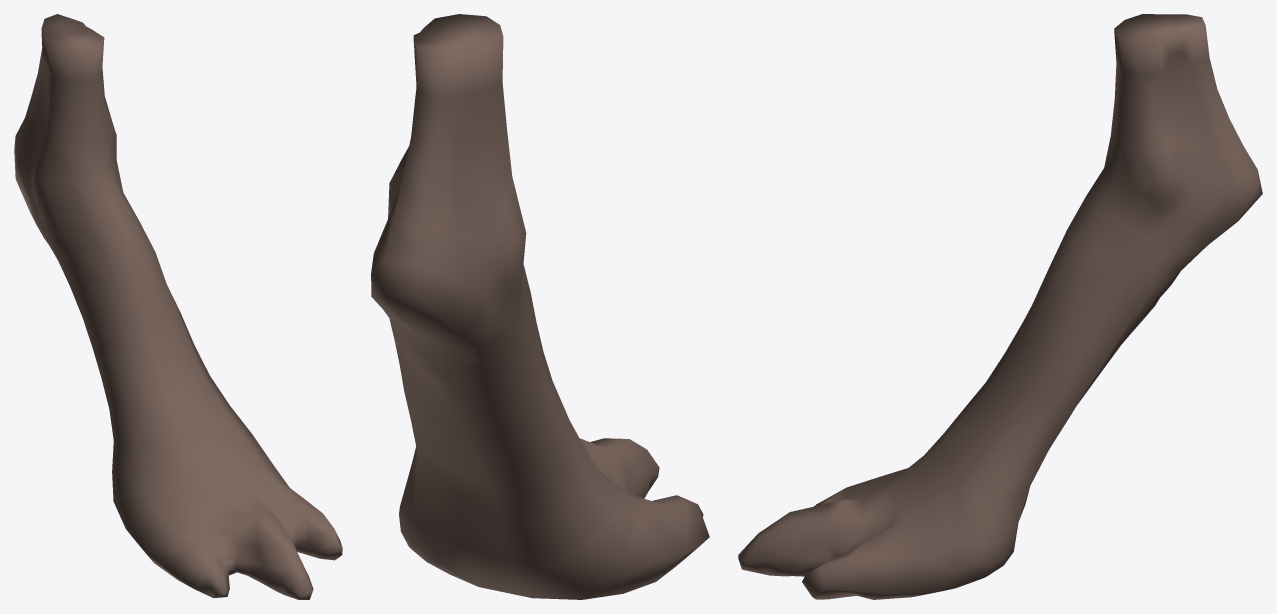
The model's file is foot.fbx.
The picture shows the model from 3 angles, left to right: view 1: azimuth 30°, elevation 25°; view 2: azimuth 150°, elevation 25°; view 3: azimuth 270°, elevation 25°; orthographic projection. The views are drawn at different scales.
Visible parts, largest first — view 1: foot; view 2: foot; view 3: foot.
Part boxes in pixels (<box>): foot: <box>14,14,342,599</box>; foot: <box>371,14,709,599</box>; foot: <box>738,14,1262,599</box>.
Size of the model in its own units: 1.16 by 2.99 by 2.73.
